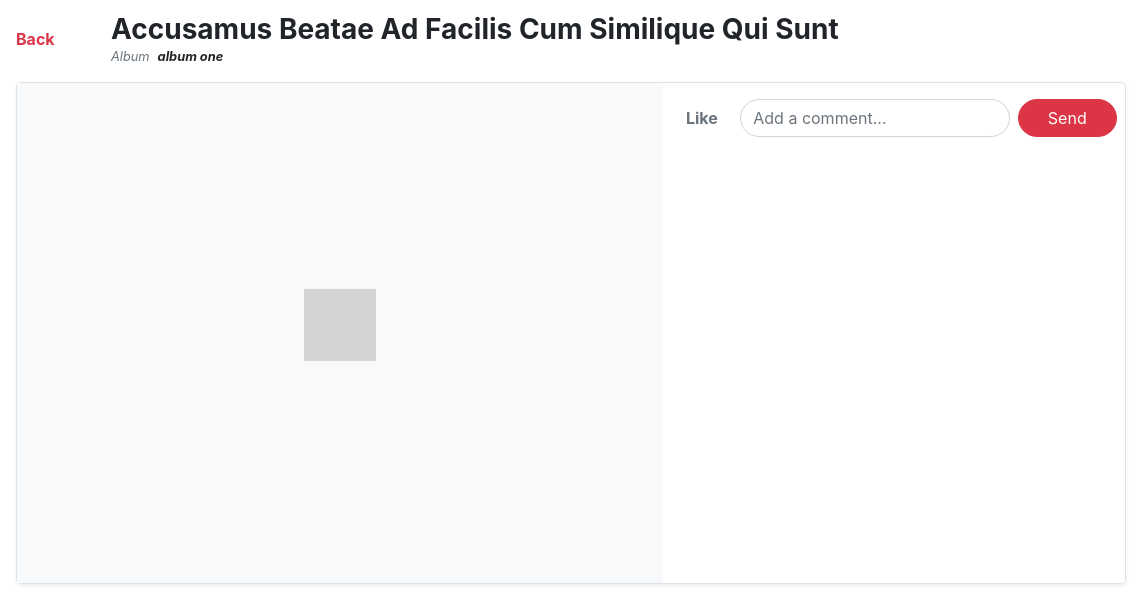
comment feature / photo detail › add comment
Type "test comment" into the field with placeholder "Add a comment...". click: {"x": 875, "y": 118}
box: [740,99,1010,137]
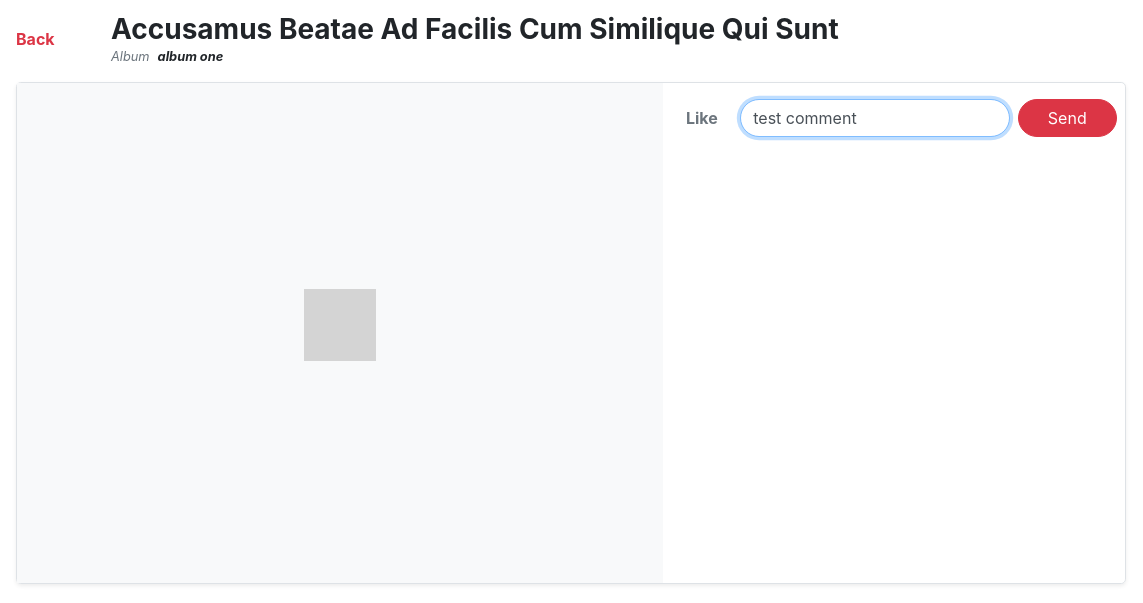
Click the button "Send". click: {"x": 1067, "y": 118}
box: [1018,99,1117,137]
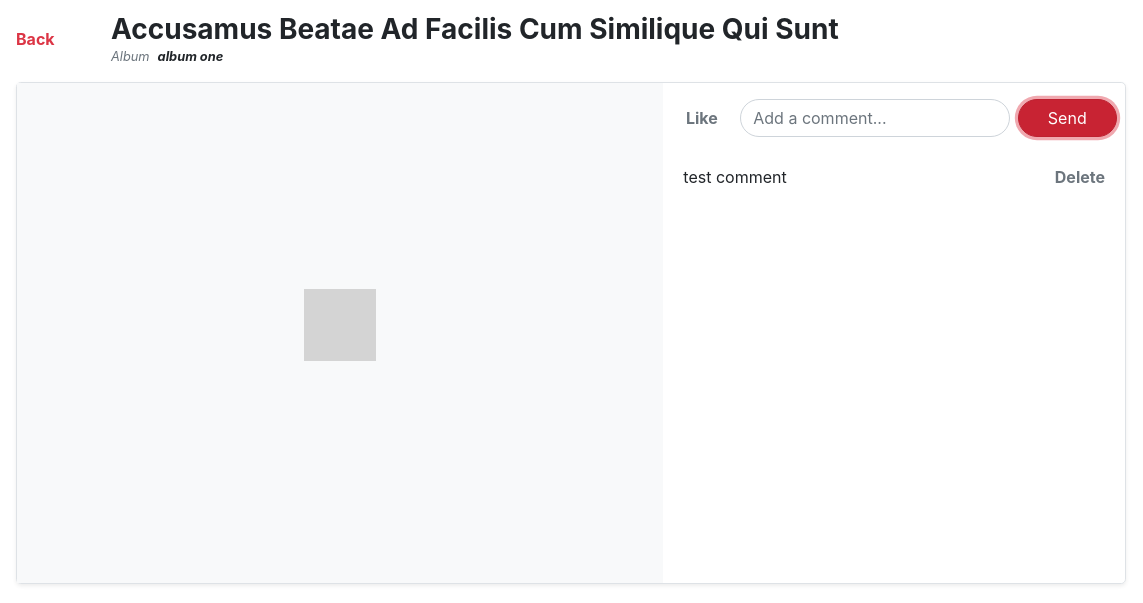
Expected: the field with placeholder "Add a comment..." is empty, [740,99,1010,137]
Expected: the text "test comment" is shown, [683,165,787,189]
Expected: the number of buttons "Delete" is 1, [1055,165,1105,189]
